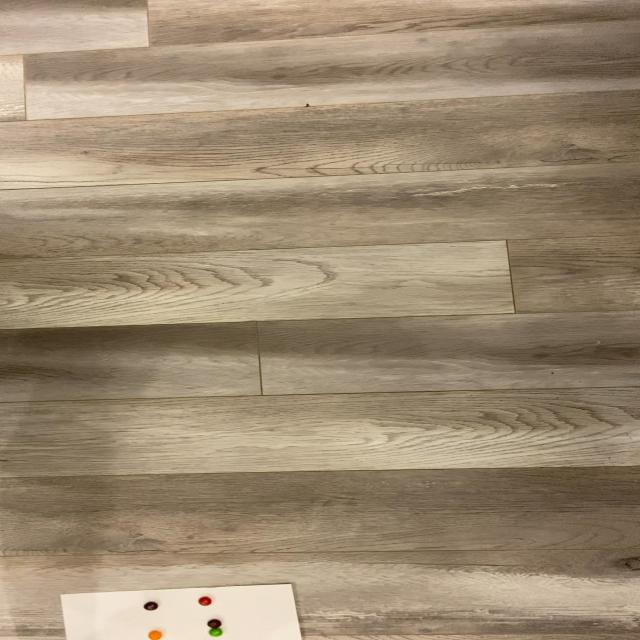smartie: (206, 620, 220, 630), (142, 603, 157, 612), (197, 598, 211, 607), (207, 630, 222, 638), (147, 632, 161, 640)
